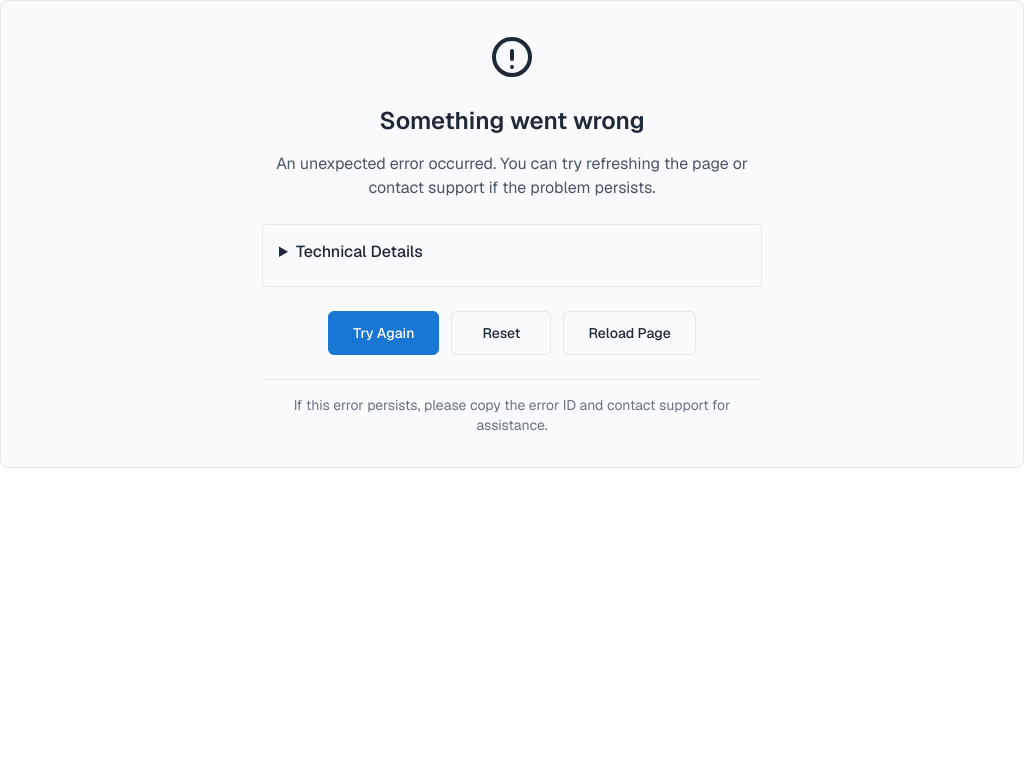
Test: ErrorBoundary › Error Handling › should show technical details when expanded
Note: Click to expand technical details
Click the heading "Technical Details" at (359, 252), box [296, 241, 423, 262]
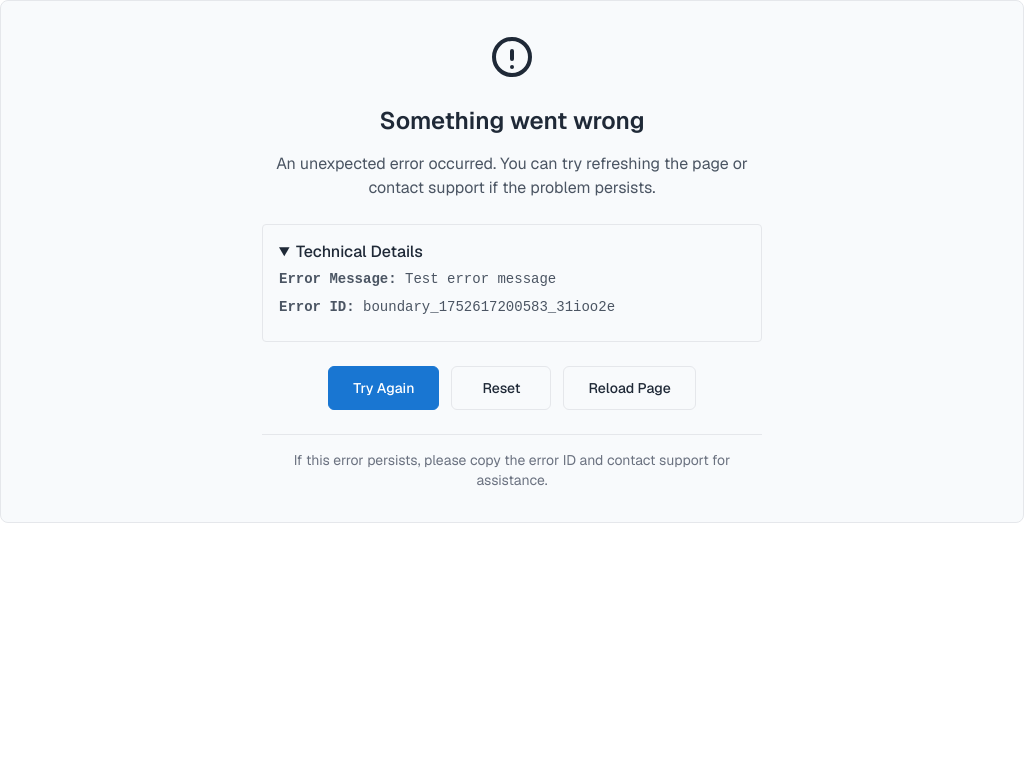
Now the text "Test error message" is shown, box [405, 271, 556, 287]
Now the text "Error ID:" is shown, box [279, 299, 355, 315]
